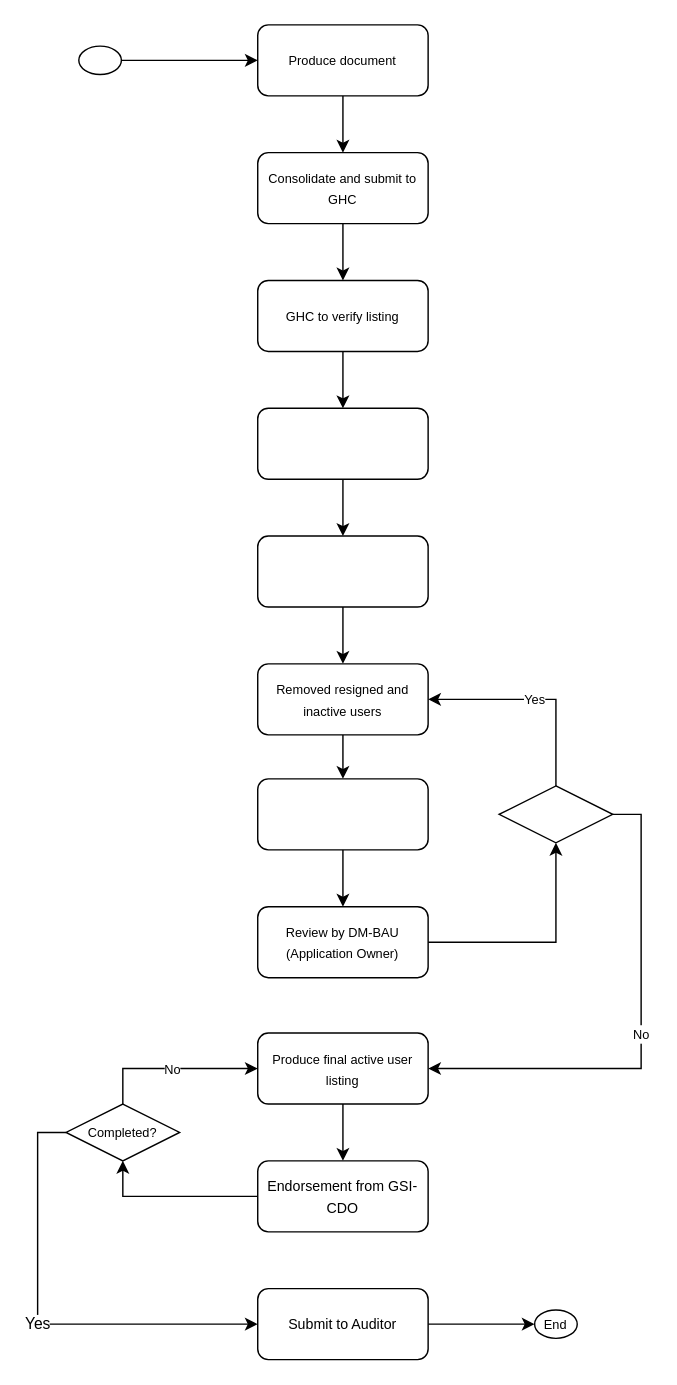
Some shapes in this 677 by 1385 pixel diagram are drawn without their labels. Here are the shapes that lost their labels. From the top down, the centre of each, then its label:
point 99,60: Start
point 342,443: Return the iteration listing to UAM
point 342,571: Compare and reconcile the documents
point 342,813: Produce draft active user listing
point 555,814: Modified?
